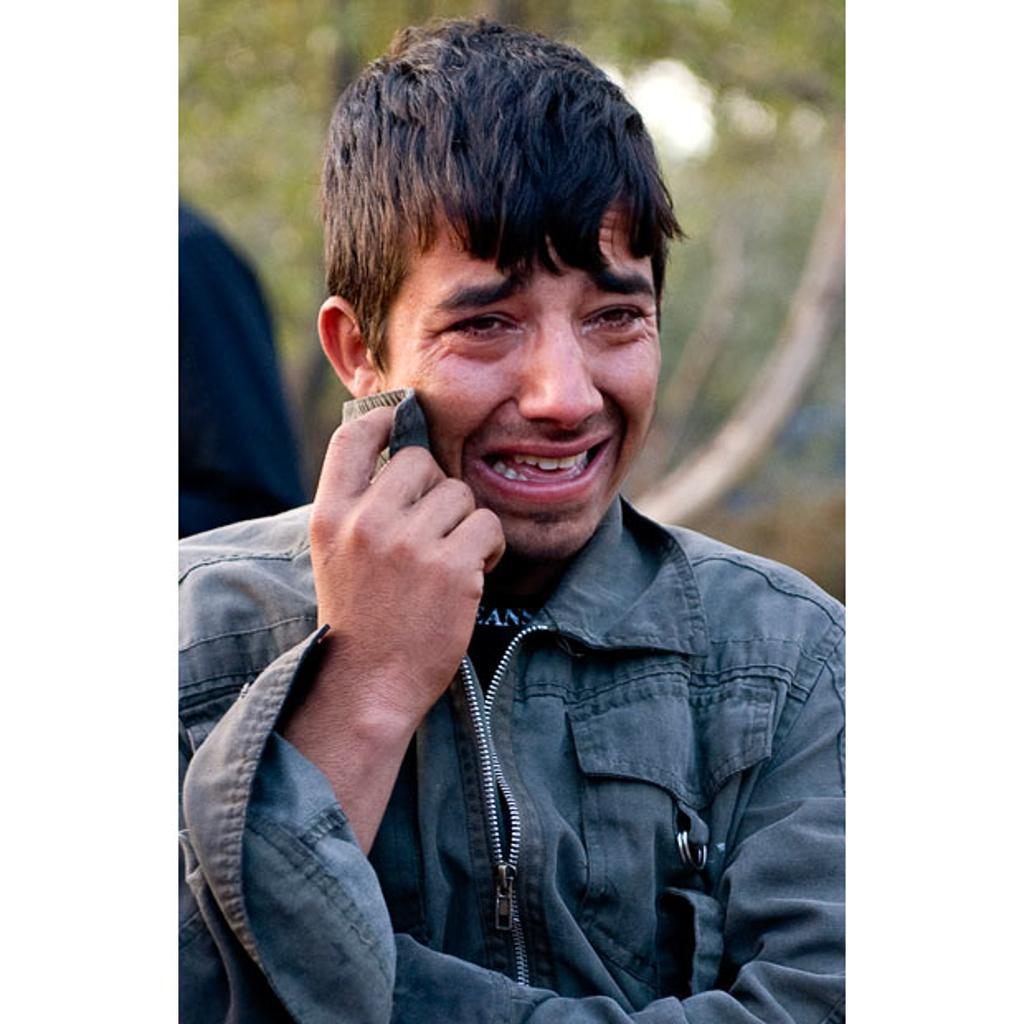face: (417, 161, 655, 541)
